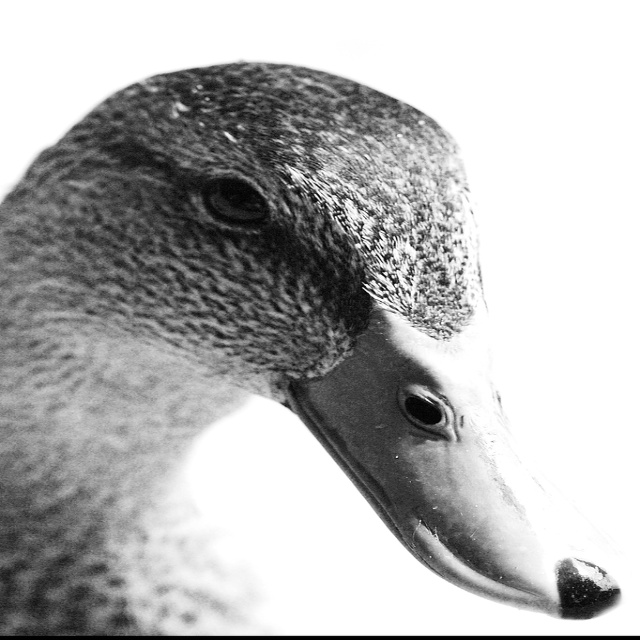Goose: (0, 54, 623, 640)
